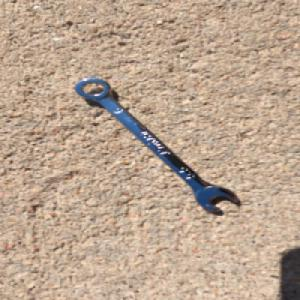Wrench: (73, 76, 240, 214)
